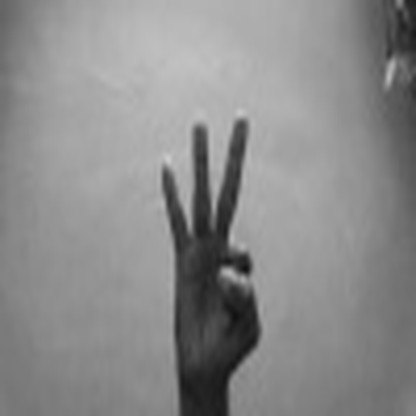f: (134, 105, 284, 389)
